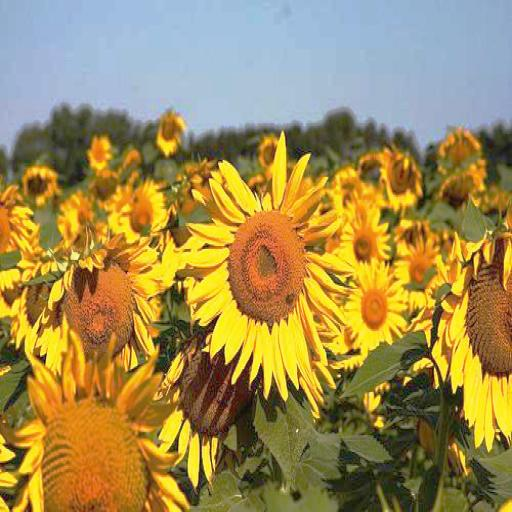sunflower: (180, 131, 346, 401), (20, 338, 190, 512)
